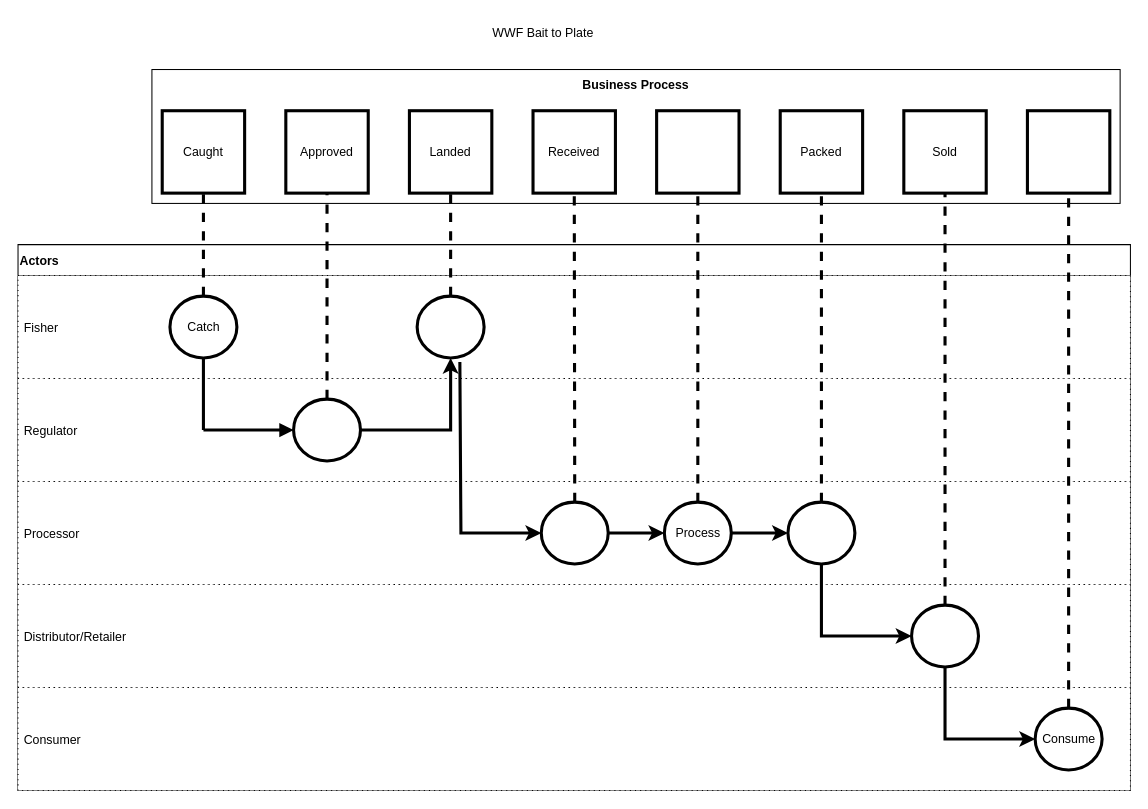
Image size: 1148x809. Some labels were removed from this diagram. The shapes that lost their labels are listed below. From the top down, each one's centre as x and y in pixels, then its label:
the point at 697,151: Processed
the point at 1068,151: Bait to Plate History
the point at 450,326: Land
the point at 326,429: Approve
the point at 574,532: Receive
the point at 821,532: Pack
the point at 944,635: Sell
